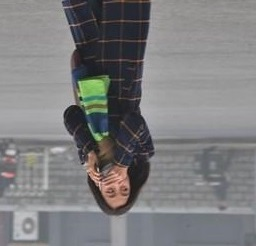person: (58, 1, 158, 218), (212, 145, 235, 211)
